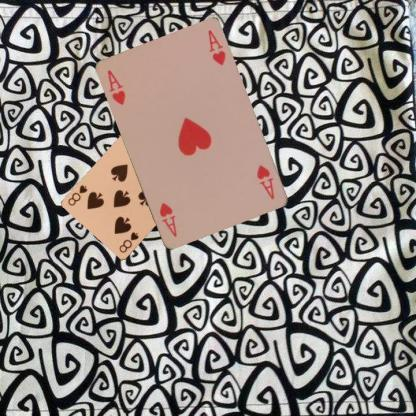8s: (117, 230, 140, 254)
Ah: (105, 67, 127, 107), (254, 162, 276, 200)
